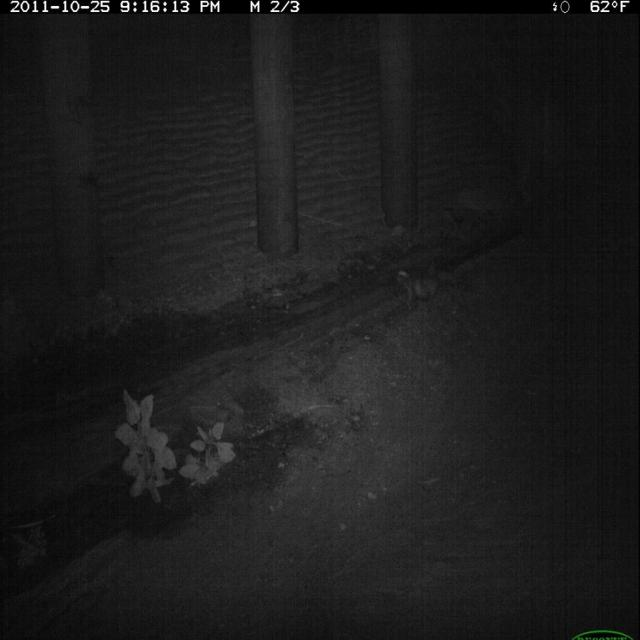cat: (393, 261, 444, 318)
